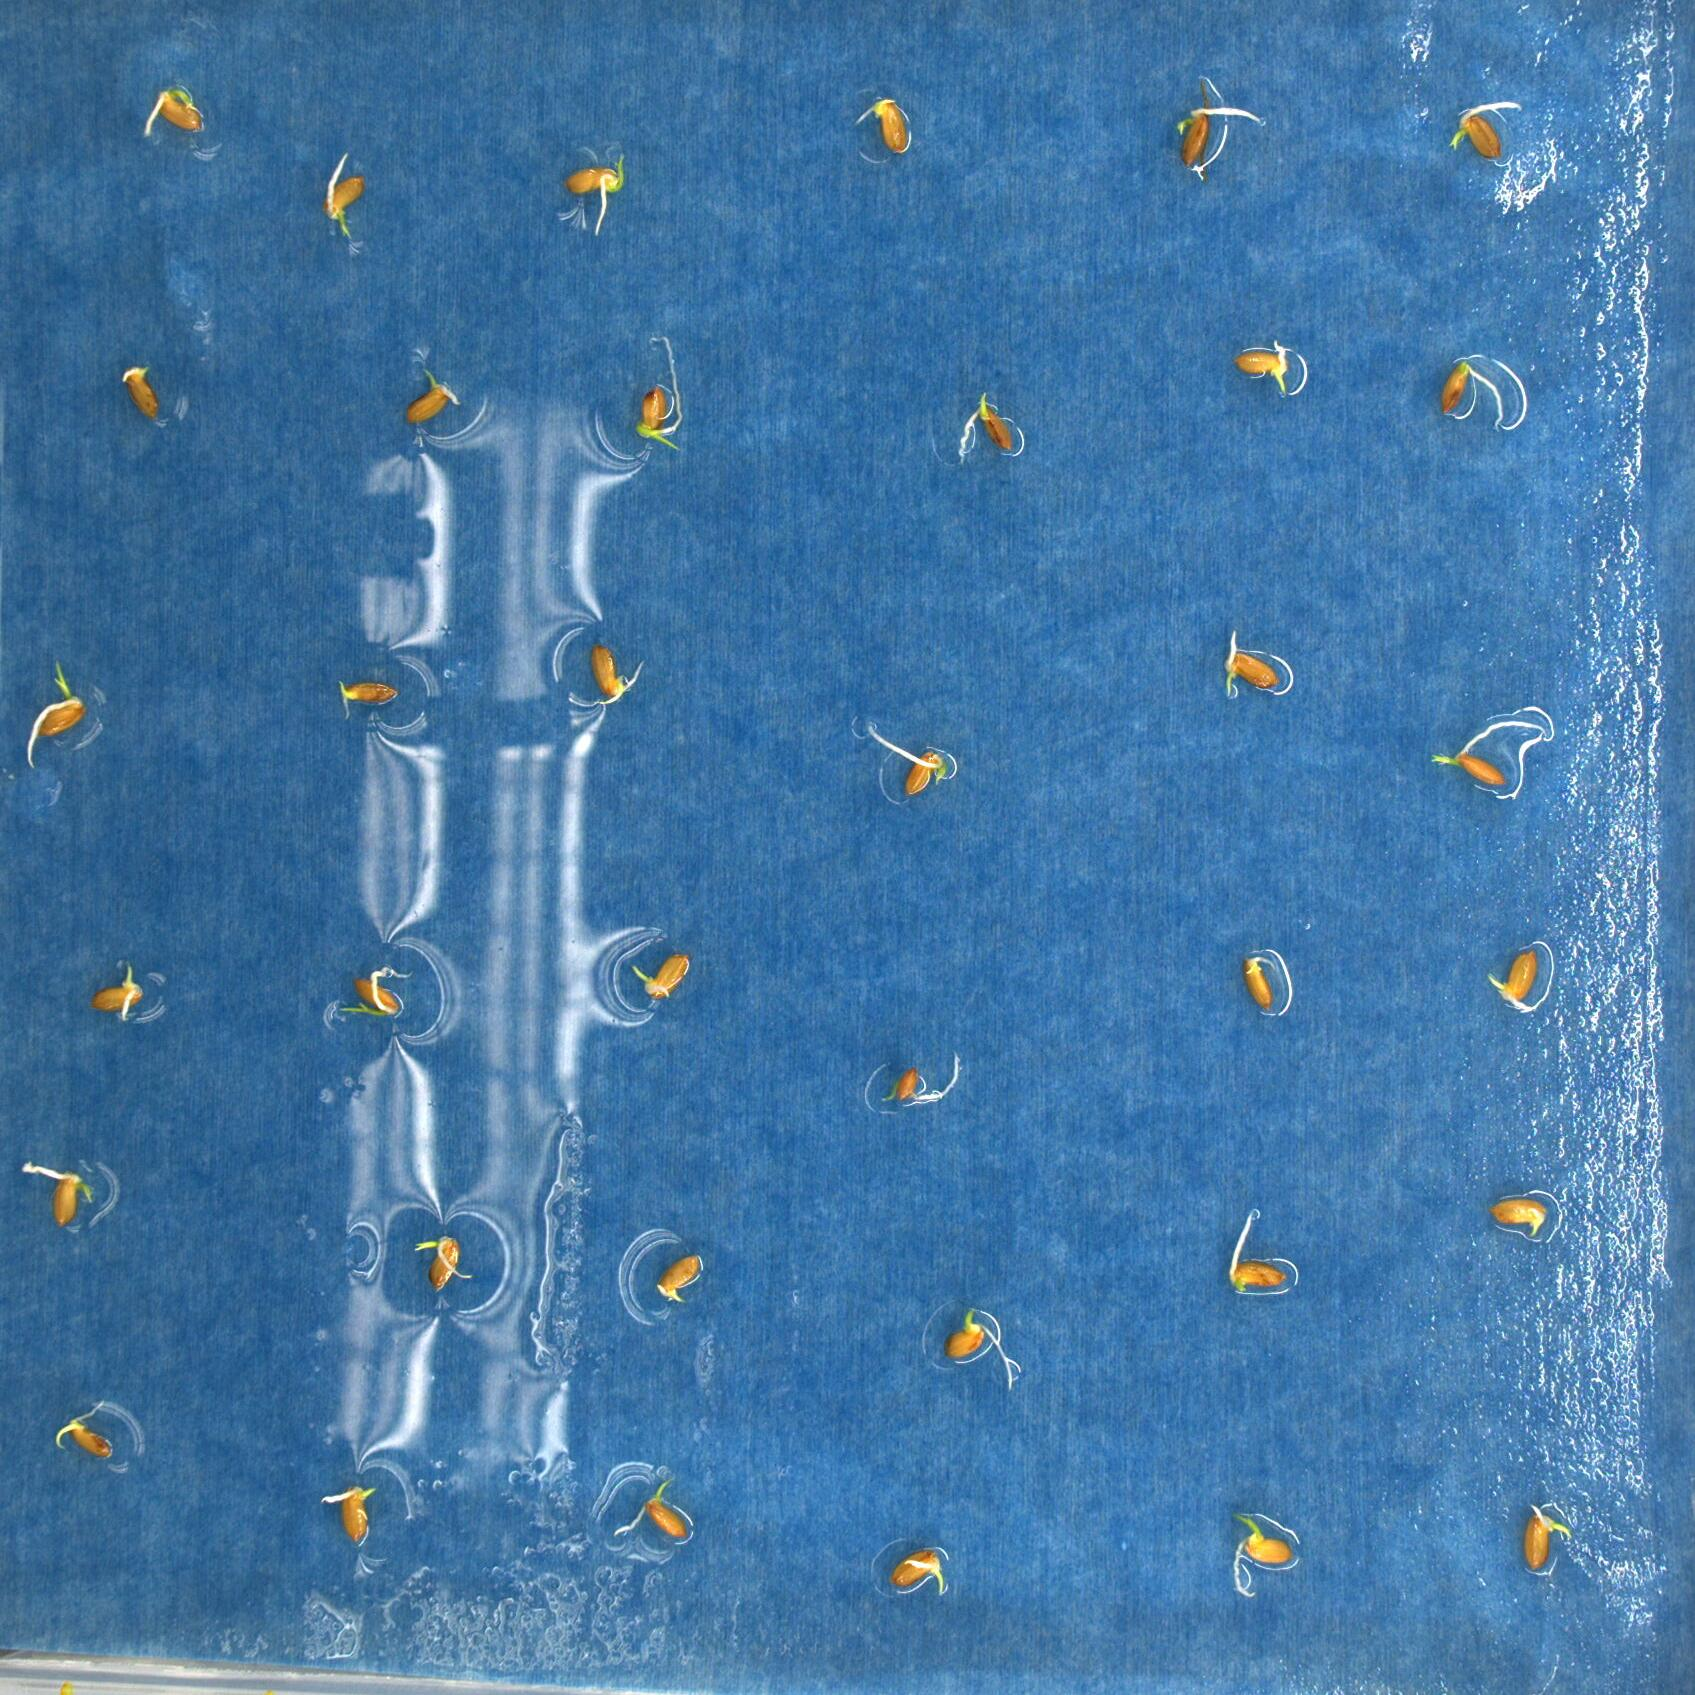not sprout: (1175, 104, 1263, 175), (865, 723, 948, 795), (945, 1307, 1014, 1392), (1228, 1208, 1290, 1299), (1440, 359, 1506, 432), (1225, 629, 1284, 697), (958, 393, 1015, 463), (590, 644, 646, 711), (320, 1482, 379, 1544), (143, 81, 203, 140), (1487, 948, 1540, 1014), (632, 947, 692, 1003), (857, 96, 910, 155), (337, 678, 400, 722), (121, 365, 165, 424), (1489, 1197, 1551, 1232), (657, 1256, 705, 1301), (1245, 955, 1277, 1010)
sprout: (1430, 719, 1548, 787), (26, 660, 85, 770), (636, 335, 685, 453), (1231, 1513, 1295, 1600), (565, 151, 626, 234), (612, 1478, 692, 1538), (19, 1159, 92, 1226), (879, 1051, 959, 1104), (1450, 101, 1521, 160), (338, 965, 411, 1018), (323, 152, 366, 234), (54, 1402, 115, 1461), (1521, 1506, 1572, 1572), (88, 959, 144, 1020), (407, 368, 459, 432), (413, 1236, 473, 1288), (1234, 341, 1293, 394), (889, 1546, 945, 1599)
